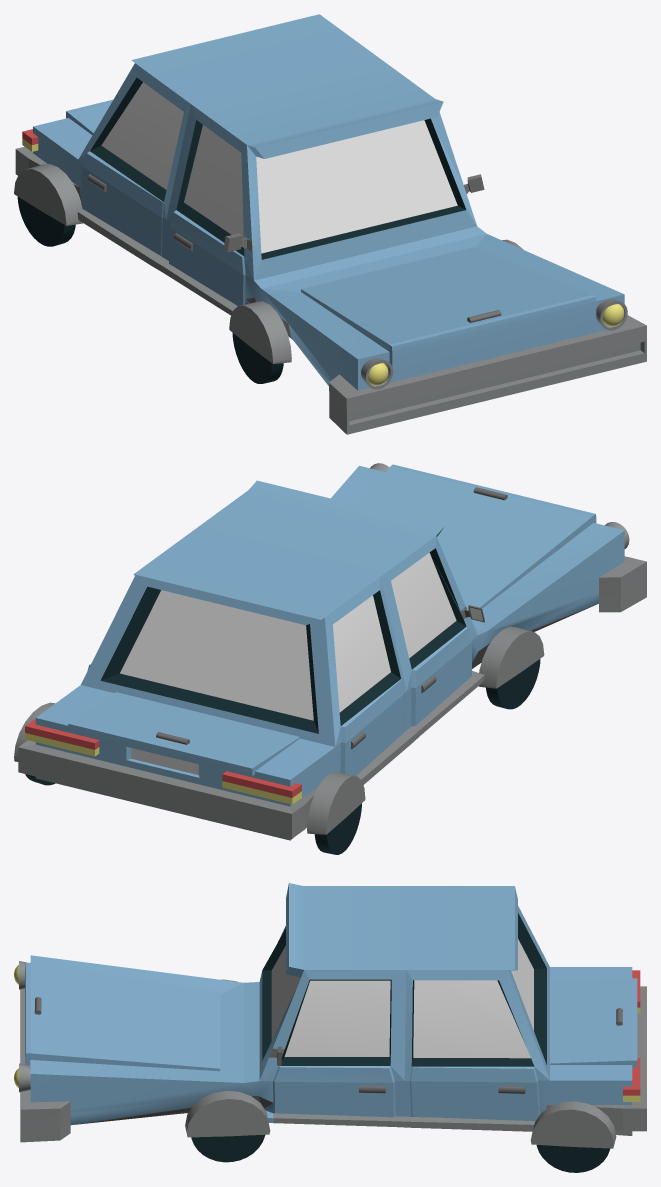
File: car.fbx
3 renders of one model, top to bottom at view 1: azimuth 30°, elevation 25°; view 2: azimuth 150°, elevation 25°; view 3: azimuth 270°, elevation 25°, orthographic. The views are drawn at different scales.
Parts seen in each view (by area): view 1: carbod, polySurface1 (×2), pCylinder8 (×2); view 2: carbod, polySurface1 (×2), pCylinder8 (×2); view 3: carbod, polySurface1 (×2), pCylinder8 (×2).
Part boxes in pixels (x1,y1,x2,y2): carbod: [15, 14, 646, 434]; polySurface1 (×2): [14, 164, 291, 363]; pCylinder8 (×2): [17, 197, 283, 383]; carbod: [18, 464, 646, 840]; polySurface1 (×2): [307, 626, 544, 834]; pCylinder8 (×2): [314, 659, 540, 854]; carbod: [20, 883, 646, 1142]; polySurface1 (×2): [185, 1090, 616, 1148]; pCylinder8 (×2): [191, 1134, 609, 1172].
Bounding box in the file's own units: 12.63 × 7.62 × 24.11.
